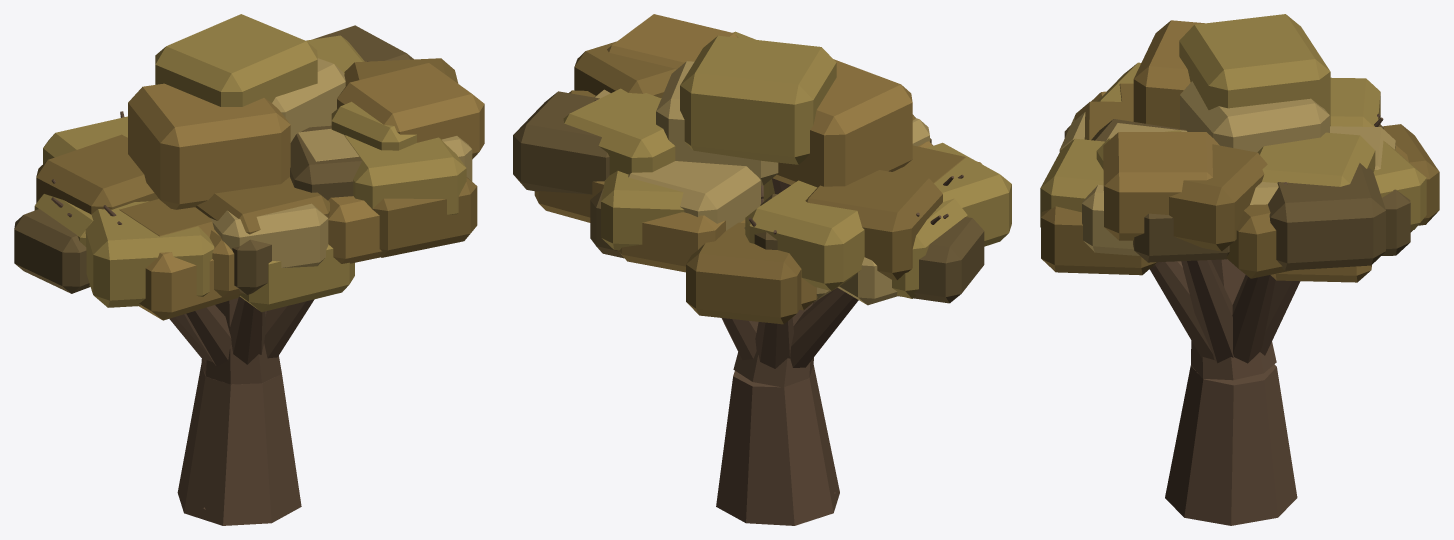
The model's file is apple_ancient_autumn_3.glb.
3 renders of one model, left to right at view 1: azimuth 30°, elevation 25°; view 2: azimuth 150°, elevation 25°; view 3: azimuth 270°, elevation 25°, orthographic. The views are drawn at different scales.
Parts seen in each view (by area): view 1: apple_ancient_autumn_3; view 2: apple_ancient_autumn_3; view 3: apple_ancient_autumn_3.
Boxes of the visible parts, box(x1,y1,x2,y2) form: apple_ancient_autumn_3: box(14, 14, 484, 525); apple_ancient_autumn_3: box(513, 14, 1011, 525); apple_ancient_autumn_3: box(1040, 14, 1439, 525).
Size of the model in its own units: 17.42 by 18 by 14.14.
